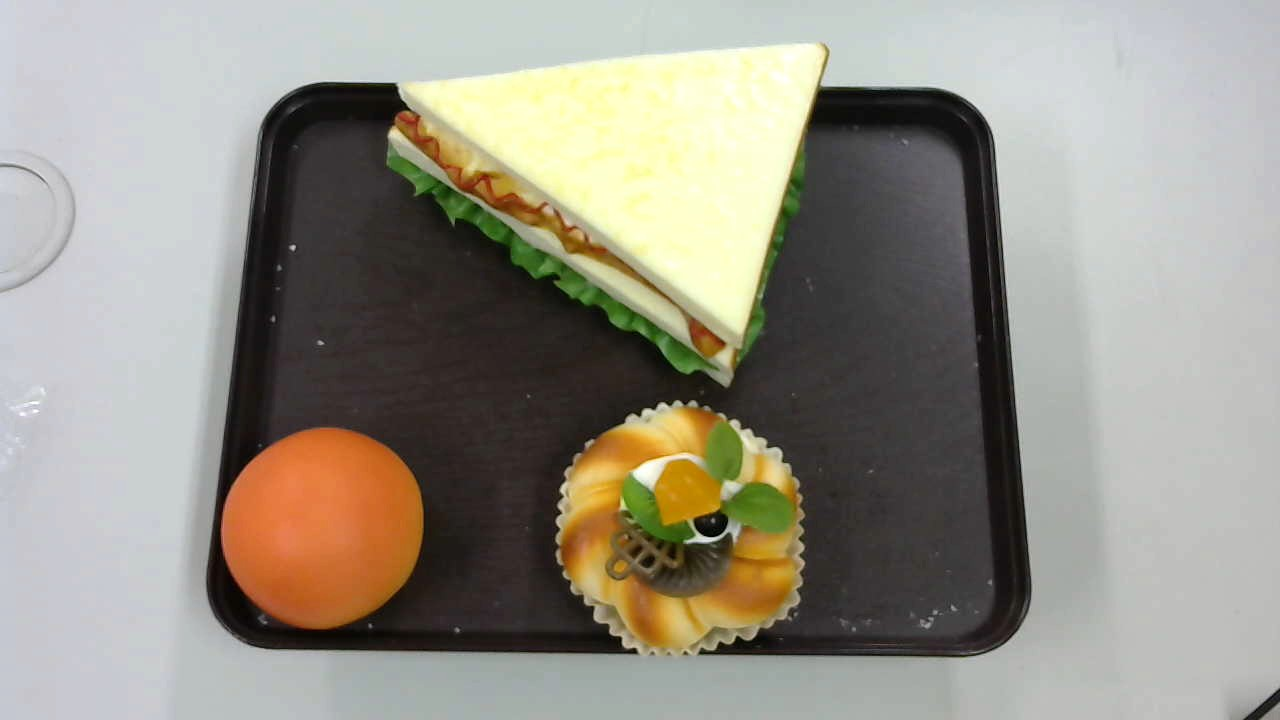bun: (220, 425, 426, 635)
fruit tart: (555, 399, 807, 661)
sandwich: (384, 43, 831, 388)
